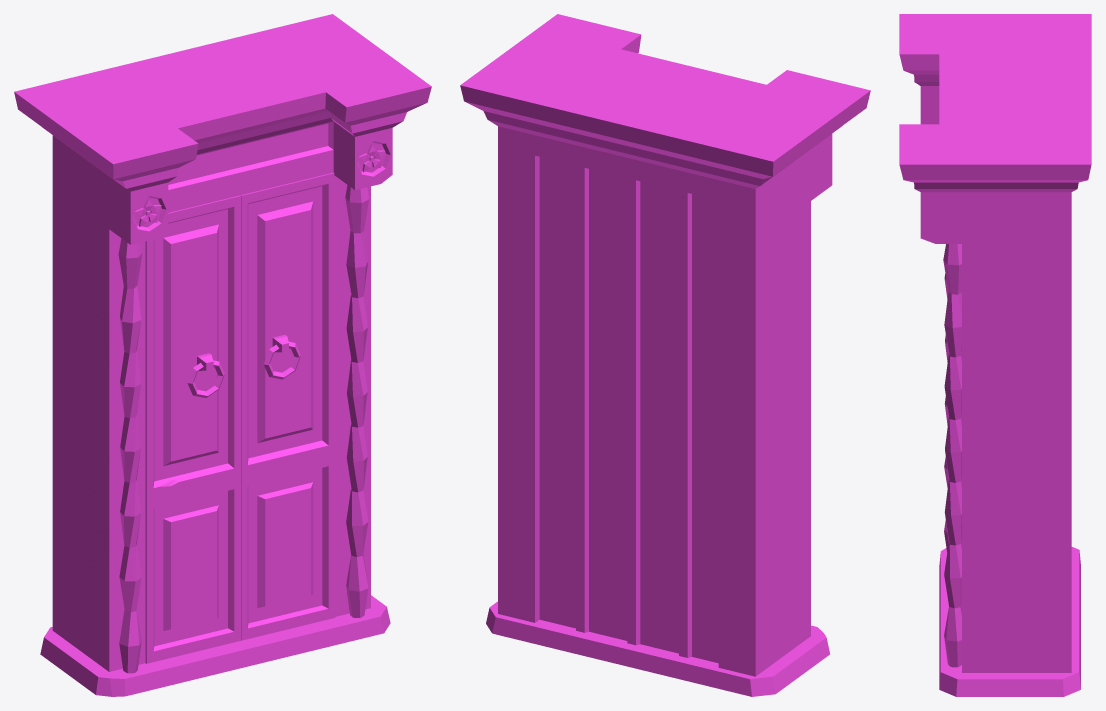
File: SM_Closet_Fancy_A_Fantasy.fbx
3 views of the same model, side by side, from view 1: azimuth 30°, elevation 25°; view 2: azimuth 150°, elevation 25°; view 3: azimuth 270°, elevation 25° (orthographic). The views are drawn at different scales.
Parts seen in each view (by area): view 1: SM_Closet_Fancy_A_Fantasy_Base, SM_Closet_Fancy_A_Fantasy_Door_R, SM_Closet_Fancy_A_Fantasy_Door_L; view 2: SM_Closet_Fancy_A_Fantasy_Base; view 3: SM_Closet_Fancy_A_Fantasy_Base.
Part boxes in pixels (x1,y1,x2,y2): SM_Closet_Fancy_A_Fantasy_Base: (14,14,431,696); SM_Closet_Fancy_A_Fantasy_Door_R: (240,172,335,640); SM_Closet_Fancy_A_Fantasy_Door_L: (145,195,240,663); SM_Closet_Fancy_A_Fantasy_Base: (460,14,870,696); SM_Closet_Fancy_A_Fantasy_Base: (899,14,1091,696).
Bounding box in the file's own units: 1.5 × 2.5 × 0.8086.
